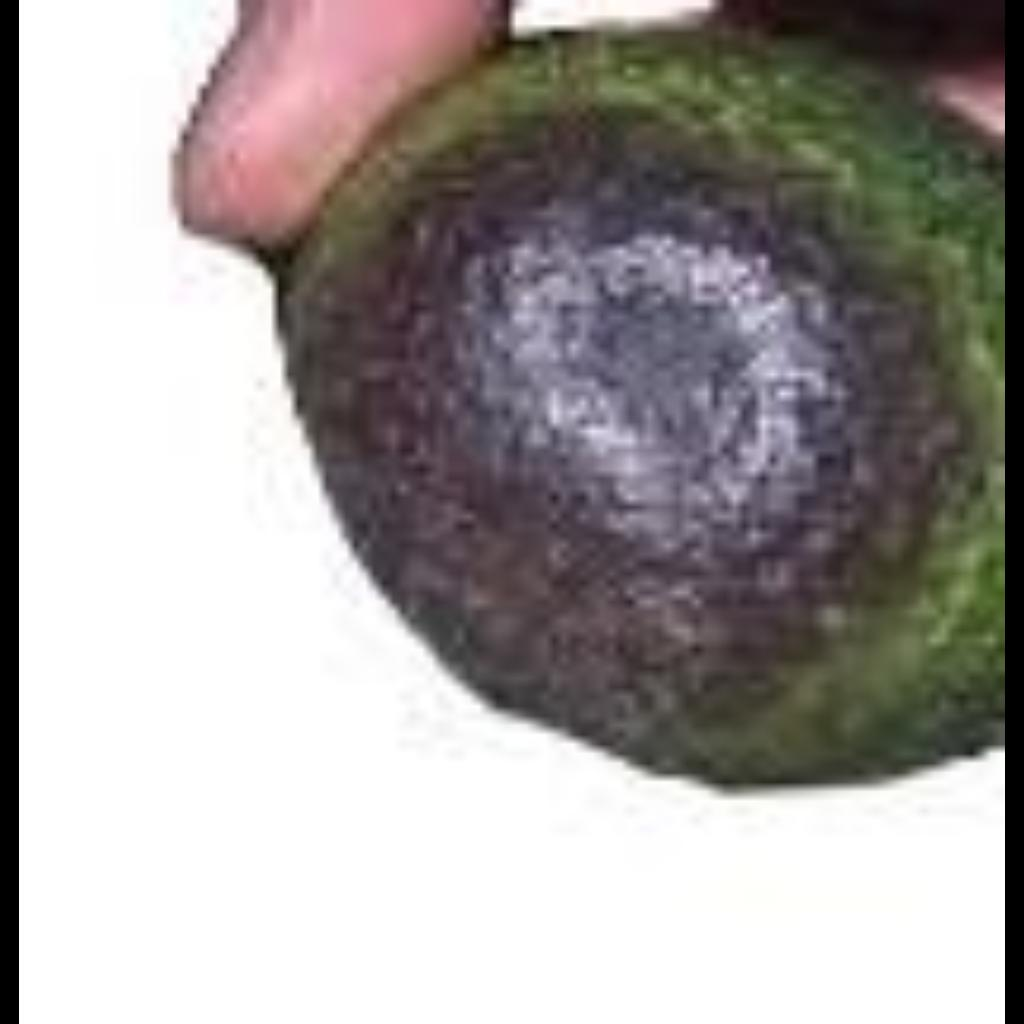antracnosis_fruto: (427, 52, 996, 726)
